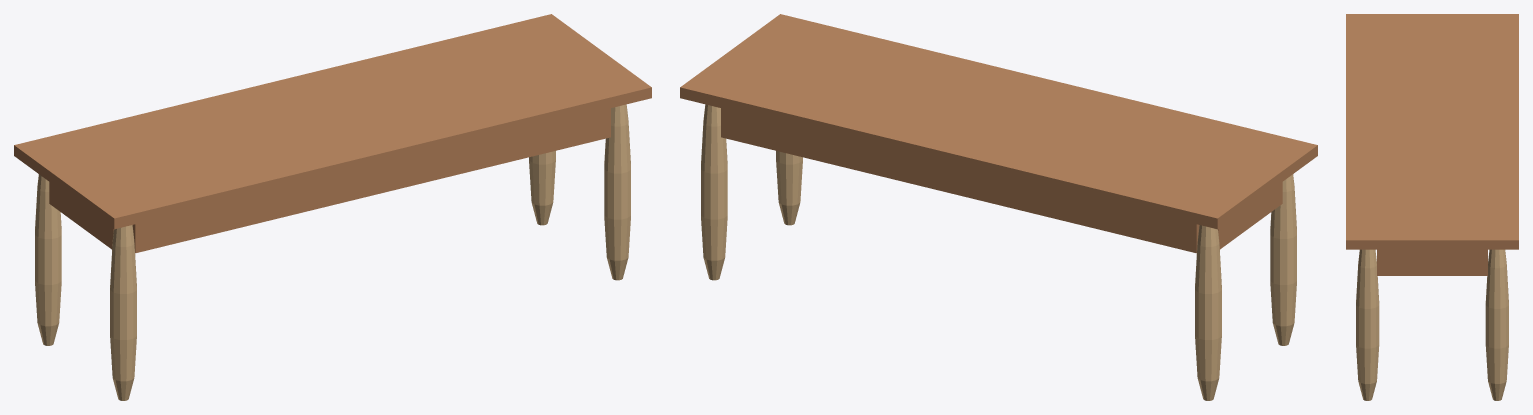
Rendered from CAL-BEB-std.glb.
3 renders of one model, left to right at view 1: azimuth 30°, elevation 25°; view 2: azimuth 150°, elevation 25°; view 3: azimuth 270°, elevation 25°, orthographic. The views are drawn at different scales.
Visible parts, largest first — view 1: top:pbr, apron-f:pbr, leg-fl:pbr, leg-fr:pbr, leg-bl:pbr, leg-br:pbr, apron-l:pbr; view 2: top:pbr, apron-b:pbr, leg-bl:pbr, leg-br:pbr, leg-fl:pbr, leg-fr:pbr, apron-l:pbr; view 3: top:pbr, leg-fr:pbr, leg-br:pbr, apron-r:pbr.
Part boxes in pixels (x1=…): top:pbr: x1=14, y1=14, x2=651, y2=229; apron-f:pbr: x1=132, y1=108, x2=610, y2=253; leg-fl:pbr: x1=110, y1=225, x2=136, y2=400; leg-fr:pbr: x1=604, y1=104, x2=630, y2=280; leg-bl:pbr: x1=35, y1=174, x2=61, y2=345; leg-br:pbr: x1=529, y1=151, x2=555, y2=225; apron-l:pbr: x1=49, y1=182, x2=113, y2=249; top:pbr: x1=680, y1=14, x2=1317, y2=229; apron-b:pbr: x1=721, y1=108, x2=1199, y2=253; leg-bl:pbr: x1=1195, y1=225, x2=1221, y2=400; leg-br:pbr: x1=701, y1=104, x2=727, y2=280; leg-fl:pbr: x1=1270, y1=174, x2=1296, y2=345; leg-fr:pbr: x1=776, y1=151, x2=802, y2=225; apron-l:pbr: x1=1218, y1=182, x2=1282, y2=249; top:pbr: x1=1346, y1=14, x2=1518, y2=249; leg-fr:pbr: x1=1356, y1=249, x2=1379, y2=400; leg-br:pbr: x1=1485, y1=249, x2=1508, y2=400; apron-r:pbr: x1=1377, y1=249, x2=1487, y2=275.
Bounding box in the file's own units: 1.3 × 0.45 × 0.42.
